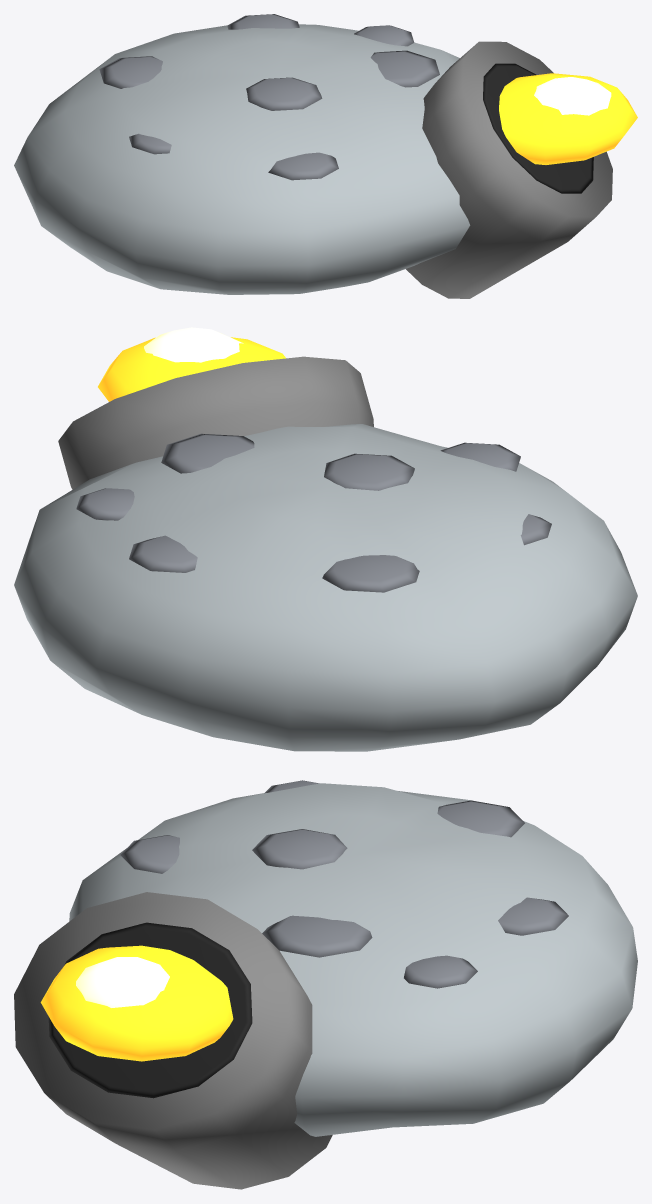
Rendered from newshk-1-f6.glb.
The picture shows the model from 3 angles, top to bottom: view 1: azimuth 30°, elevation 25°; view 2: azimuth 150°, elevation 25°; view 3: azimuth 270°, elevation 25°; orthographic projection. The views are drawn at different scales.
Parts seen in each view (by area): view 1: newshk-1-f6; view 2: newshk-1-f6; view 3: newshk-1-f6.
Boxes of the visible parts, x1,y1,x2,y2 form: newshk-1-f6: [14, 14, 637, 298]; newshk-1-f6: [14, 327, 637, 751]; newshk-1-f6: [14, 780, 637, 1189].
Size of the model in its own units: 1.7 by 0.7535 by 1.54.
